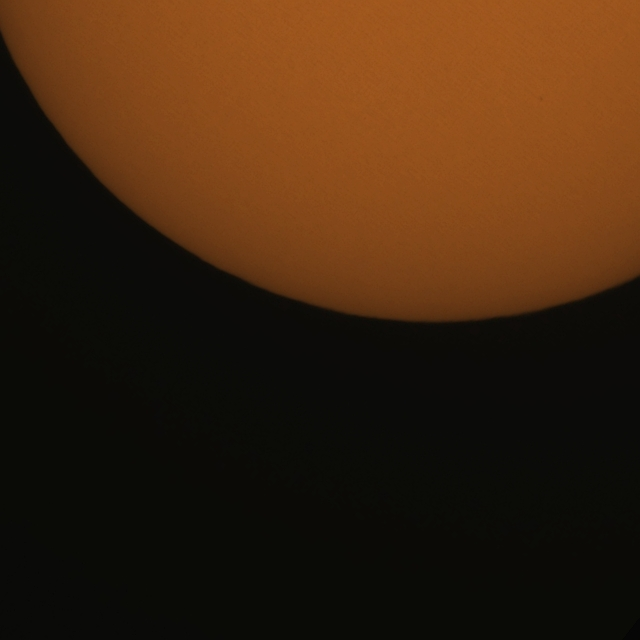sunspot: (538, 94, 544, 103)
